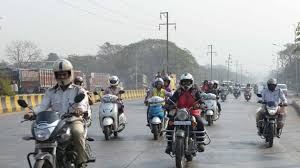helmet: (49, 56, 76, 85), (178, 70, 195, 91), (263, 77, 281, 93), (106, 74, 120, 89)
